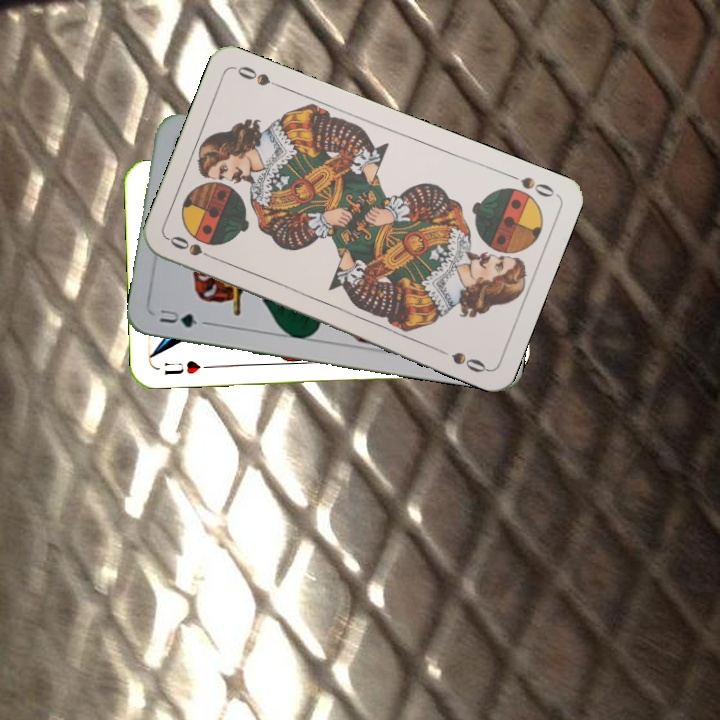GU: (155, 305, 202, 330)
HU: (160, 357, 214, 378)
SO: (166, 231, 221, 264), (502, 169, 557, 200)
